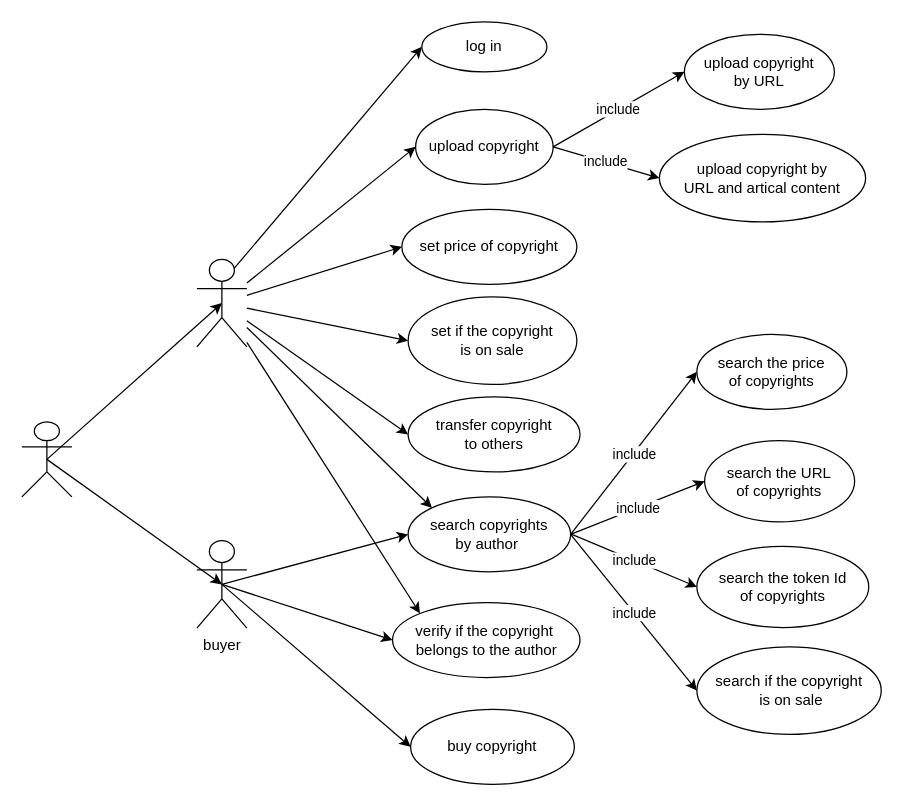
The diagram is 904 pixels wide and 806 high, and some of its shapes have lost their labels. The shapes that lost their labels are listed below. From the top down, each one's box as (x1, y1, x2, y2) in pixels, then its label:
(196, 258, 247, 347): author
(21, 421, 72, 497): user
